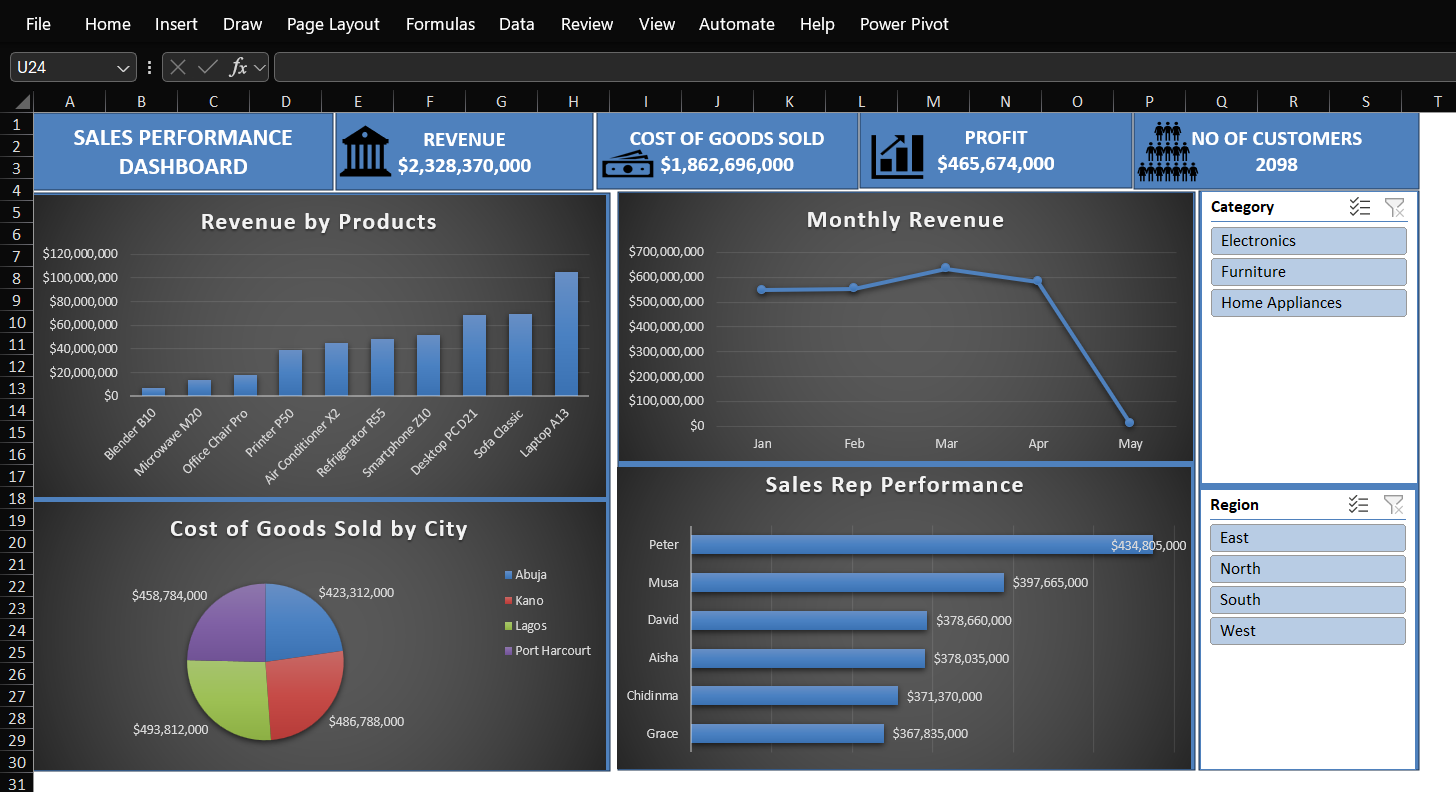

What the dashboard file says about the page in this screenshot:
{"tool":"powerbi","page":{"name":"Page 1","canvas":[1280,720],"ordinal":0},"visuals":[{"type":"shape","title":"SALES PERFORMANCE DASHBOARD","box":[0,0,199,92.1],"z":0},{"type":"textbox","box":[0,180.5,224,150],"z":1000},{"type":"card","title":"No of Customers","fields":{"Values":["CountNonNull(Sales Data.Customer Type)"]},"box":[207.7,0,278.6,92.1],"z":2000},{"type":"card","title":"Revenue","fields":{"Values":["Sum(Sales Data.Revenue)"]},"box":[497.6,0,252.5,92.1],"z":3000},{"type":"card","title":"Cost of Goods Sold","fields":{"Values":["Sum(Sales Data.Cost of Goods Sold)"]},"box":[1030,0,250,92.1],"z":4000},{"type":"card","title":"Profit","fields":{"Values":["Sum(Sales Data.Profit)"]},"box":[750.1,0,269.9,92.1],"z":5000},{"type":"clusteredColumnChart","fields":{"Category":["Sales Data.Product"],"Y":["Sum(Sales Data.Profit)"]},"box":[0,92.1,486.4,304.8],"z":6000},{"type":"clusteredBarChart","fields":{"Y":["Sum(Sales Data.Revenue)"],"Category":["Sales Data.Sales Rep"]},"box":[497.6,415.5,522.5,304.8],"z":7000},{"type":"lineChart","fields":{"Category":["Sales Data.Month"],"Y":["Sum(Sales Data.Revenue)"]},"box":[497.6,92.1,522.5,304.8],"z":8000},{"type":"slicer","title":"Region","fields":{"Values":["Sales Data.Region"]},"box":[1031,92,249,305],"z":9000},{"type":"slicer","title":"Category","fields":{"Values":["Sales Data.Category"]},"box":[1031.2,415.5,248.8,304.8],"z":10000},{"type":"donutChart","title":" Sum of Cost of Goods Sold by City","fields":{"Category":["Sales Data.City"],"Y":["Divide(Sum(Sales Data.Cost of Goods Sold), ScopedEval(Sum(Sales Data.Cost of Goods Sold), []))"]},"box":[0,415,486,305],"z":11000}]}

Visuals, with their boxes in screenshot pixels (x1, y1, x2, y2):
"SALES PERFORMANCE DASHBOARD" shape: [left=80, top=11, right=296, bottom=111]
textbox: [left=80, top=207, right=323, bottom=370]
"No of Customers" card: [left=305, top=11, right=607, bottom=111]
"Revenue" card: [left=620, top=11, right=894, bottom=111]
"Cost of Goods Sold" card: [left=1198, top=11, right=1455, bottom=111]
"Profit" card: [left=894, top=11, right=1187, bottom=111]
clusteredColumnChart - Sales Data.Product x Sum(Sales Data.Profit): [left=80, top=111, right=608, bottom=442]
clusteredBarChart - Sum(Sales Data.Revenue) x Sales Data.Sales Rep: [left=620, top=462, right=1187, bottom=791]
lineChart - Sales Data.Month x Sum(Sales Data.Revenue): [left=620, top=111, right=1187, bottom=442]
"Region" slicer: [left=1199, top=111, right=1455, bottom=442]
"Category" slicer: [left=1199, top=462, right=1455, bottom=791]
" Sum of Cost of Goods Sold by City" donutChart: [left=80, top=462, right=607, bottom=791]
